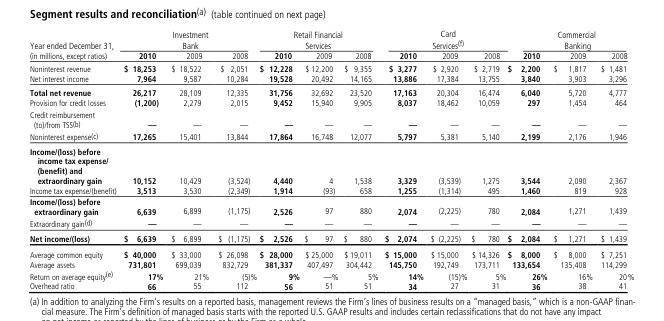table: (28, 28, 633, 290)
table column: (28, 28, 119, 290), (119, 28, 166, 290), (166, 28, 212, 290), (380, 28, 426, 290), (549, 28, 595, 290), (212, 28, 257, 290), (257, 28, 301, 290), (506, 28, 549, 290), (426, 28, 468, 290), (340, 28, 380, 290), (301, 28, 340, 290), (468, 28, 506, 290), (595, 28, 633, 290)
table column header: (28, 28, 633, 62)
table row: (28, 144, 633, 185), (28, 28, 633, 50), (28, 108, 633, 130), (28, 196, 633, 216), (28, 230, 633, 246), (28, 130, 633, 144), (28, 216, 633, 230), (28, 246, 633, 259), (28, 50, 633, 62), (28, 73, 633, 85), (28, 85, 633, 97), (28, 269, 633, 281), (28, 62, 633, 73), (28, 97, 633, 108), (28, 185, 633, 196), (28, 259, 633, 269), (28, 281, 633, 290)
table spanning cell: (28, 28, 119, 62), (119, 28, 257, 50), (506, 28, 633, 50), (380, 28, 506, 50), (257, 28, 380, 50)
